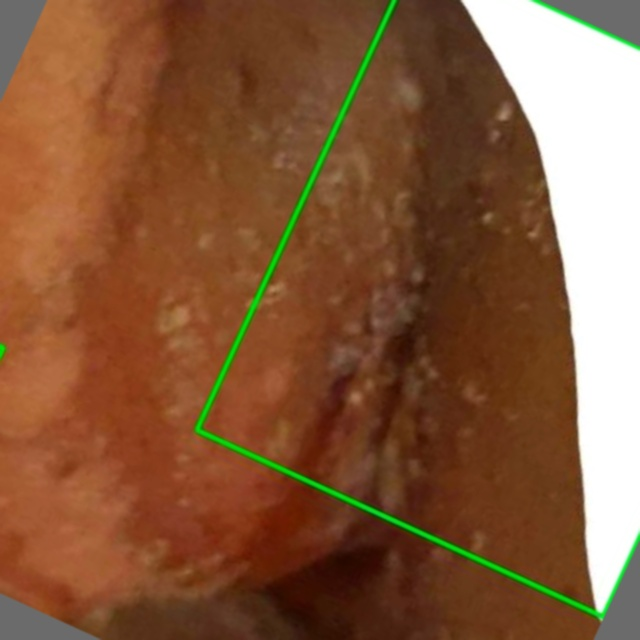Contact Dermatitis: (197, 0, 639, 616)
